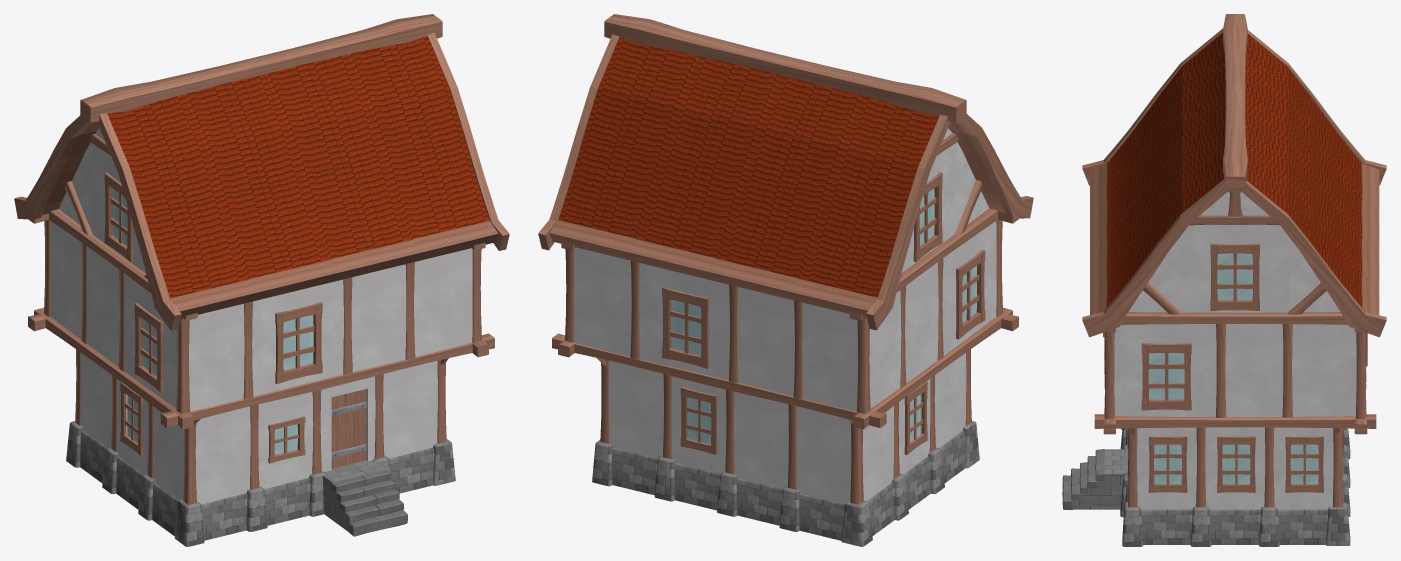
File: house_01.fbx
The picture shows the model from 3 angles, left to right: view 1: azimuth 30°, elevation 25°; view 2: azimuth 150°, elevation 25°; view 3: azimuth 270°, elevation 25°; orthographic projection. The views are drawn at different scales.
Parts seen in each view (by area): view 1: roof_03_003, roof_03_002, roof_03_004, roof_03_001, wall_05_001, support_09, wall_01_010, cover_03_002, wall_01_008, wall_01_009, wall_05_004, Stone_Stairs_002 (+35 smaller); view 2: roof_03_006, roof_03_007, roof_03_008, roof_03_005, wall_05_003, support_09, wall_01_013, wall_01_014, cover_03_002, wall_05_004, wall_01_015, wall_01_005 (+33 smaller); view 3: wall_05_006, wall_05_002, cover_03_001, wall_01_012, wall_01_011, roof_03_002, roof_03_003, roof_03_007, roof_03_006, roof_03_001, wall_06_002, roof_03_005 (+24 smaller).
Part boxes in pixels (box(x1,y1,x2,y2)): roof_03_003: box(267, 54, 419, 281); roof_03_002: box(185, 73, 338, 301); roof_03_004: box(349, 36, 498, 261); roof_03_001: box(107, 94, 256, 318); wall_05_001: box(252, 279, 343, 396); support_09: box(80, 14, 442, 122); wall_01_010: box(414, 248, 472, 356); cover_03_002: box(14, 113, 181, 330); wall_01_008: box(189, 303, 244, 411); wall_01_009: box(351, 264, 406, 371); wall_05_004: box(123, 273, 177, 408); Stone_Stairs_002: box(322, 460, 407, 536); roof_03_006: box(709, 75, 861, 300); roof_03_007: box(628, 55, 779, 280); roof_03_008: box(549, 37, 697, 260); roof_03_005: box(791, 95, 939, 318); wall_05_003: box(639, 263, 729, 380); support_09: box(604, 14, 966, 122); wall_01_013: box(574, 247, 631, 356); wall_01_014: box(737, 287, 794, 396); cover_03_002: box(866, 114, 1033, 330); wall_05_004: box(942, 221, 996, 355); wall_01_015: box(802, 303, 857, 411); wall_01_005: box(796, 406, 851, 503); wall_05_006: box(1180, 224, 1289, 312); wall_05_002: box(1114, 324, 1216, 416); cover_03_001: box(1082, 179, 1386, 337); wall_01_012: box(1292, 324, 1356, 416); wall_01_011: box(1225, 324, 1283, 416); roof_03_002: box(1090, 67, 1225, 243); roof_03_003: box(1090, 105, 1225, 281); roof_03_007: box(1245, 106, 1379, 281); roof_03_006: box(1245, 69, 1379, 243); roof_03_001: box(1090, 33, 1225, 205); wall_06_002: box(1205, 427, 1265, 509); roof_03_005: box(1245, 34, 1379, 205).
Size of the model in its own units: 420 by 471 by 354.
